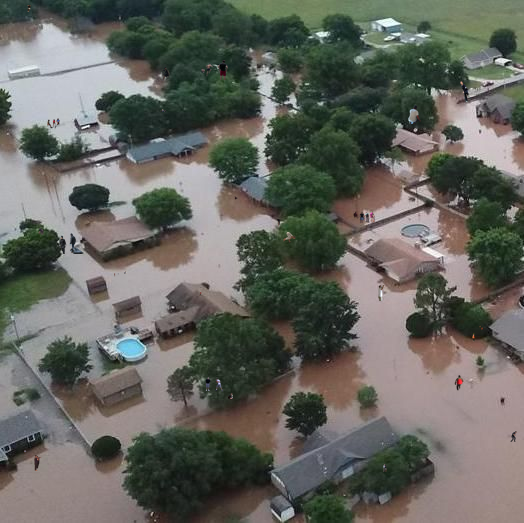Human: (430, 375, 464, 391), (201, 60, 228, 80), (59, 233, 84, 254), (205, 377, 224, 392), (352, 211, 375, 223), (460, 81, 472, 102), (408, 105, 421, 124), (34, 455, 49, 471), (472, 325, 483, 342), (47, 118, 60, 130), (283, 232, 296, 243), (161, 67, 170, 81), (27, 228, 44, 235), (378, 285, 385, 301), (510, 431, 517, 442), (383, 464, 387, 472), (228, 393, 233, 399), (27, 5, 31, 12), (277, 219, 280, 227), (114, 273, 119, 277), (160, 109, 166, 112), (234, 196, 238, 200), (24, 450, 27, 454), (199, 292, 202, 296), (450, 124, 452, 130), (116, 354, 118, 359), (106, 131, 108, 136), (124, 271, 127, 274), (438, 333, 441, 336)
